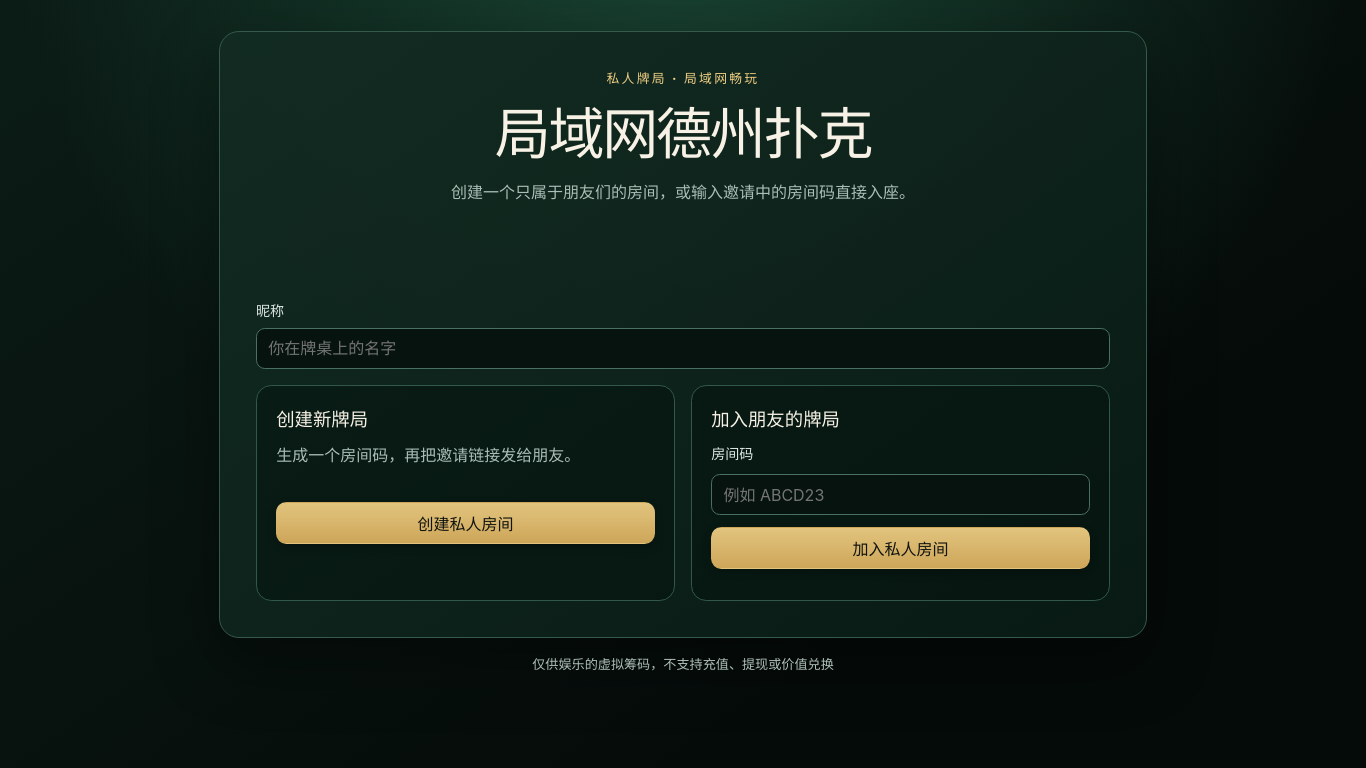
Scenario: host room controls › disables every host control while a hand is playing
Type "房主" into the field labelled "昵称" at (683, 348), box [256,328,1110,369]
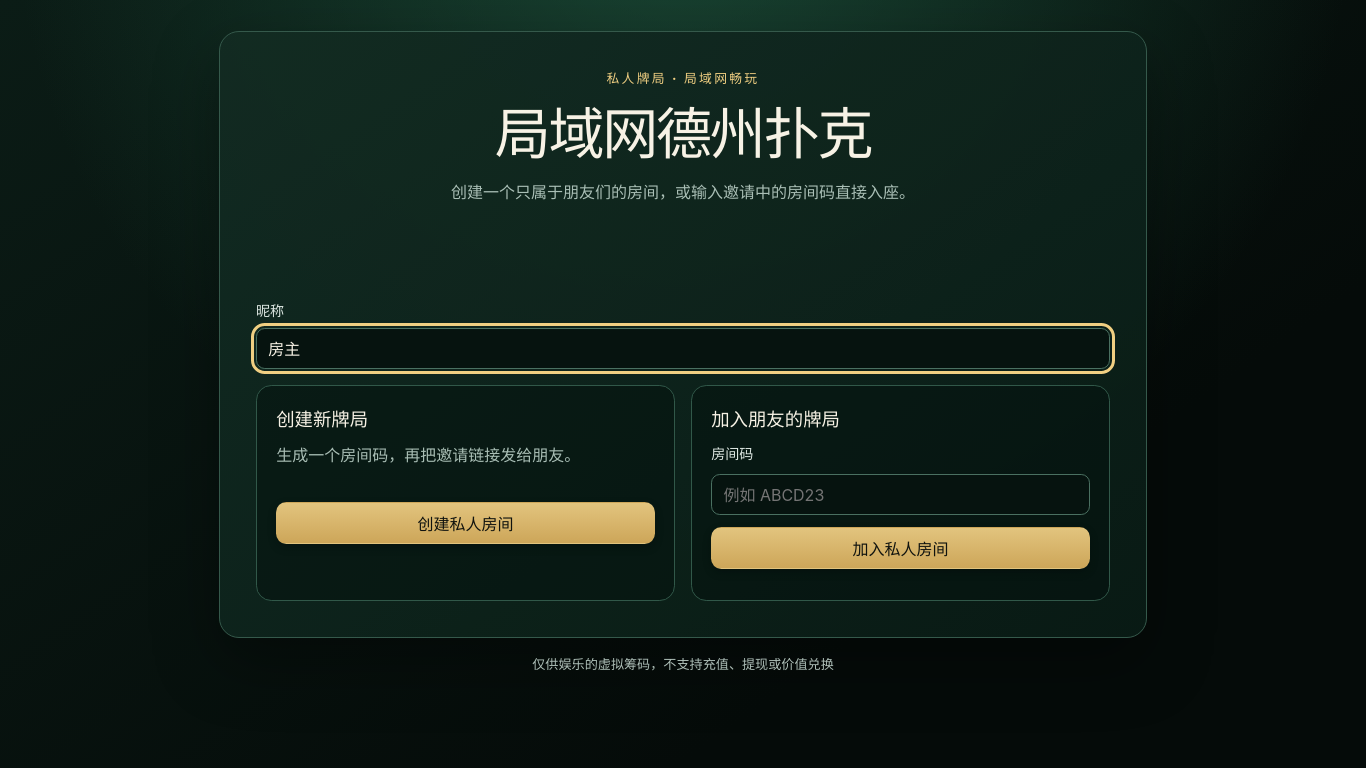
Click the button "创建私人房间" at (466, 523), box [276,502,655,544]
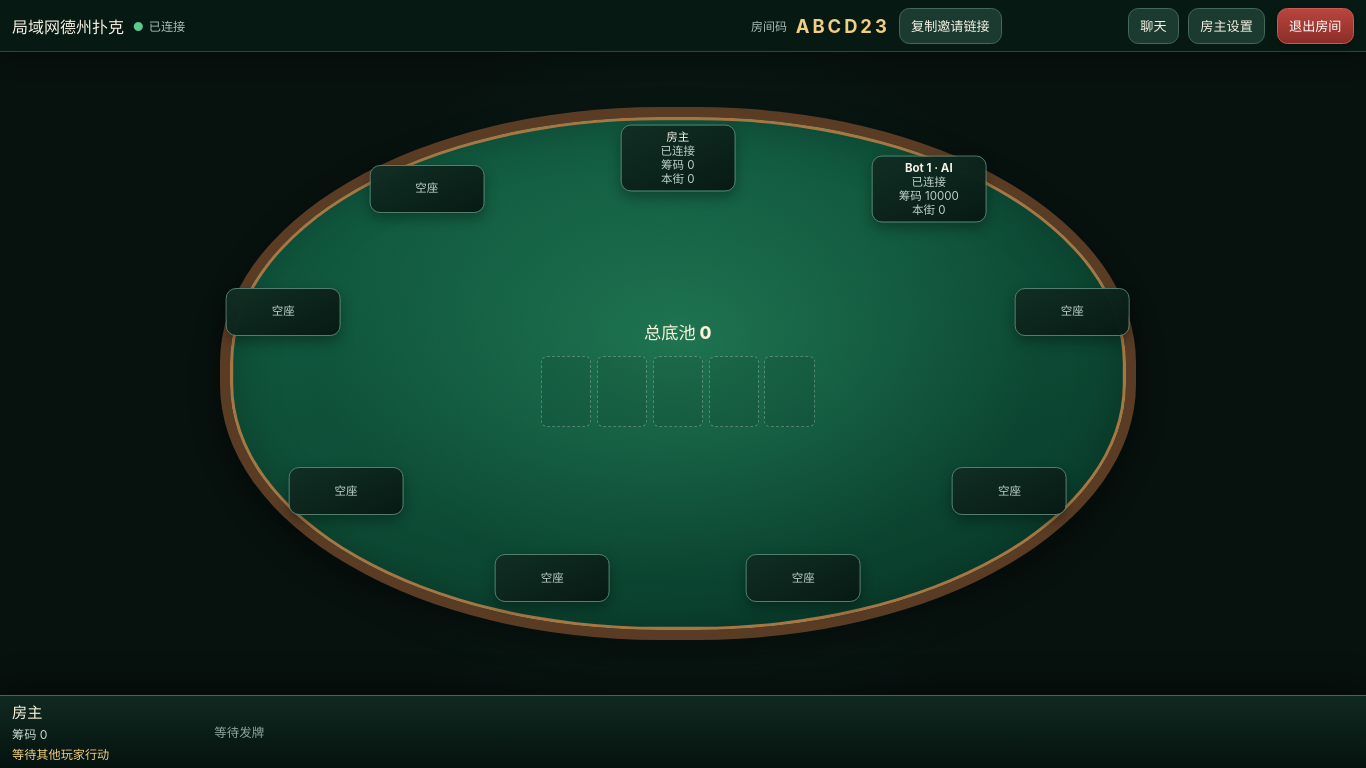
Now the text "ABCD23" is shown, box [796,14,890,36]
Click the button "房主设置" at (1227, 26), box [1188,8,1265,44]
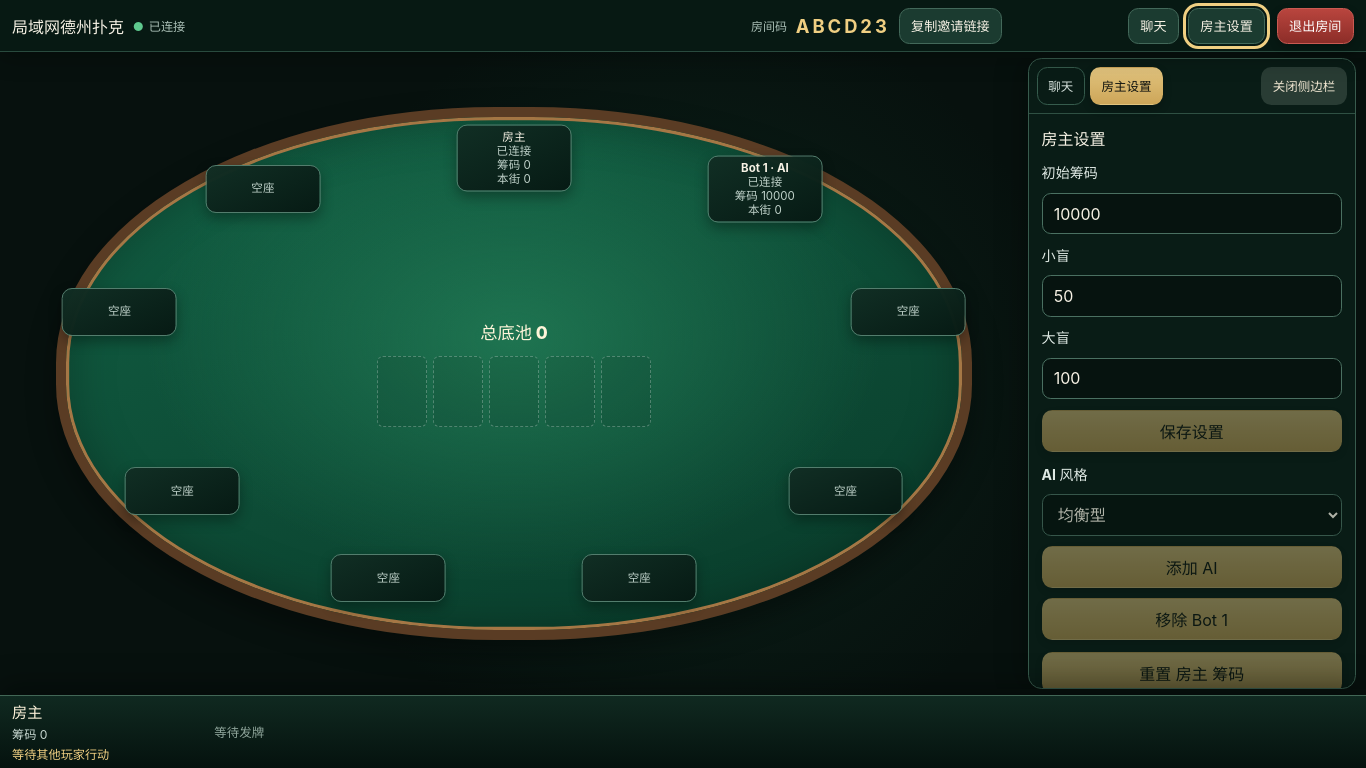
Now the number field labelled "初始筹码" is disabled, box [1042,193,1342,234]
Now the number field labelled "小盲" is disabled, box [1042,275,1342,317]
Now the number field labelled "大盲" is disabled, box [1042,358,1342,399]
